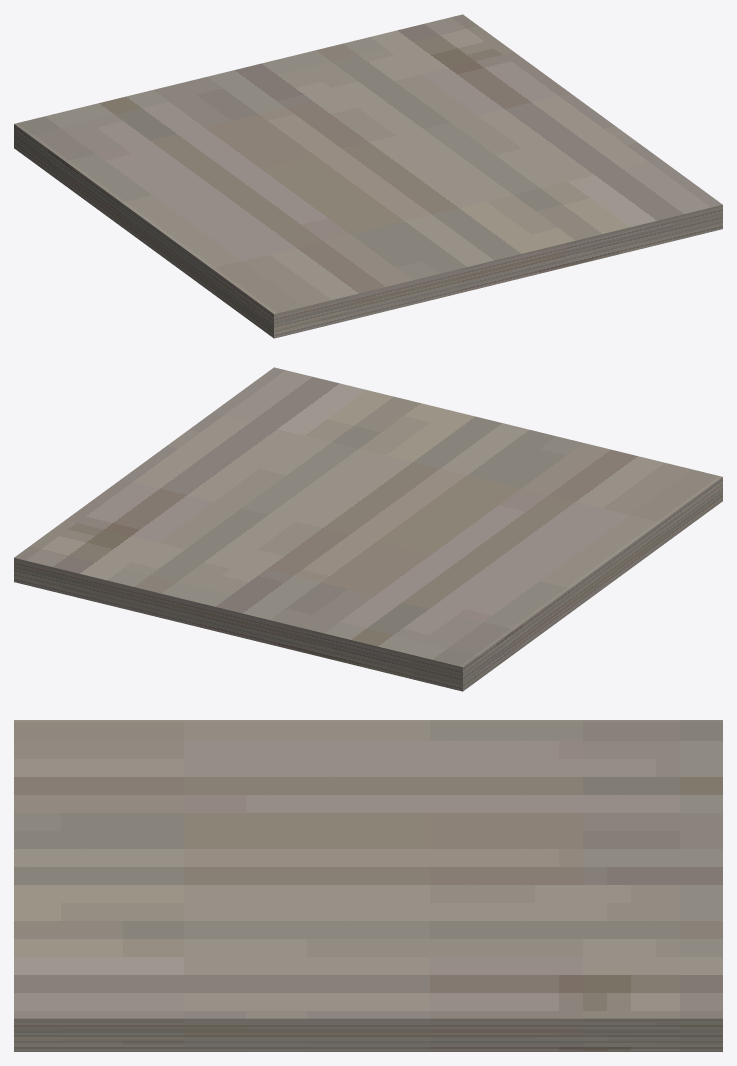
The model's file is 100_ovi_shop.gltf.
3 renders of one model, top to bottom at view 1: azimuth 30°, elevation 25°; view 2: azimuth 150°, elevation 25°; view 3: azimuth 270°, elevation 25°, orthographic. The views are drawn at different scales.
Visible parts, largest first — view 1: ovi_shop; view 2: ovi_shop; view 3: ovi_shop.
Boxes of the visible parts, x1=… form: ovi_shop: x1=14, y1=14, x2=722, y2=338; ovi_shop: x1=14, y1=367, x2=722, y2=691; ovi_shop: x1=14, y1=720, x2=722, y2=1051.
Bounding box in the file's own units: 4.91 × 0.2545 × 4.93.
1 material, 1 textured.
